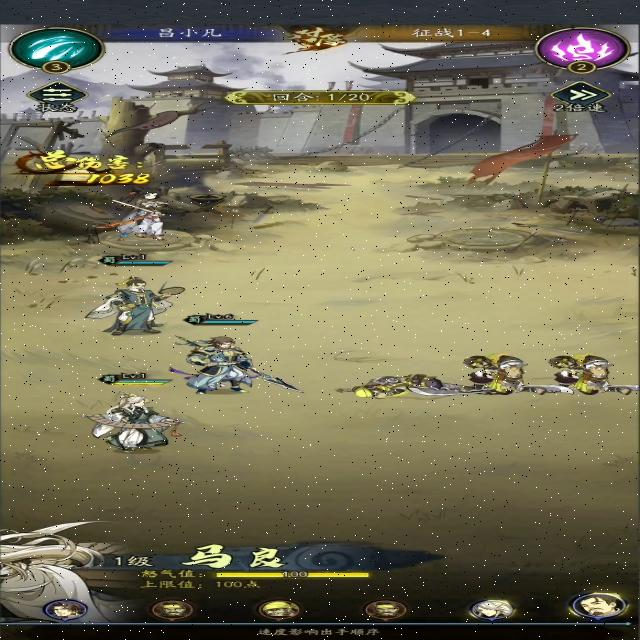hint-guide: (254, 628, 386, 640)
